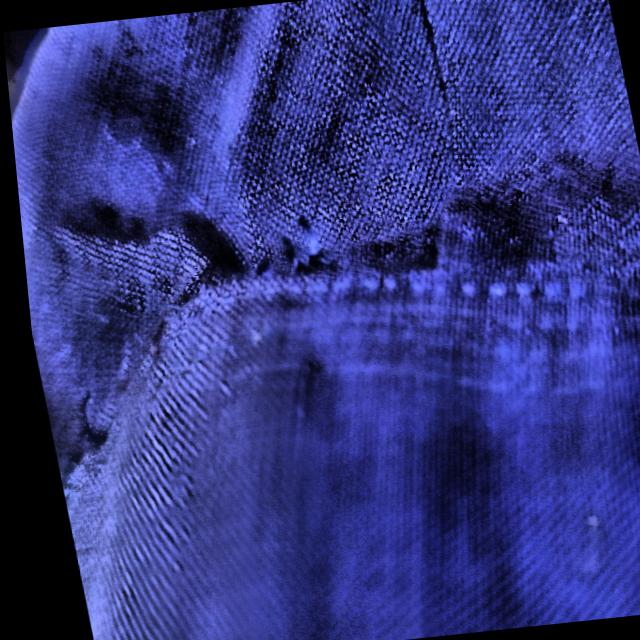Stitch: (204, 204, 354, 350)
